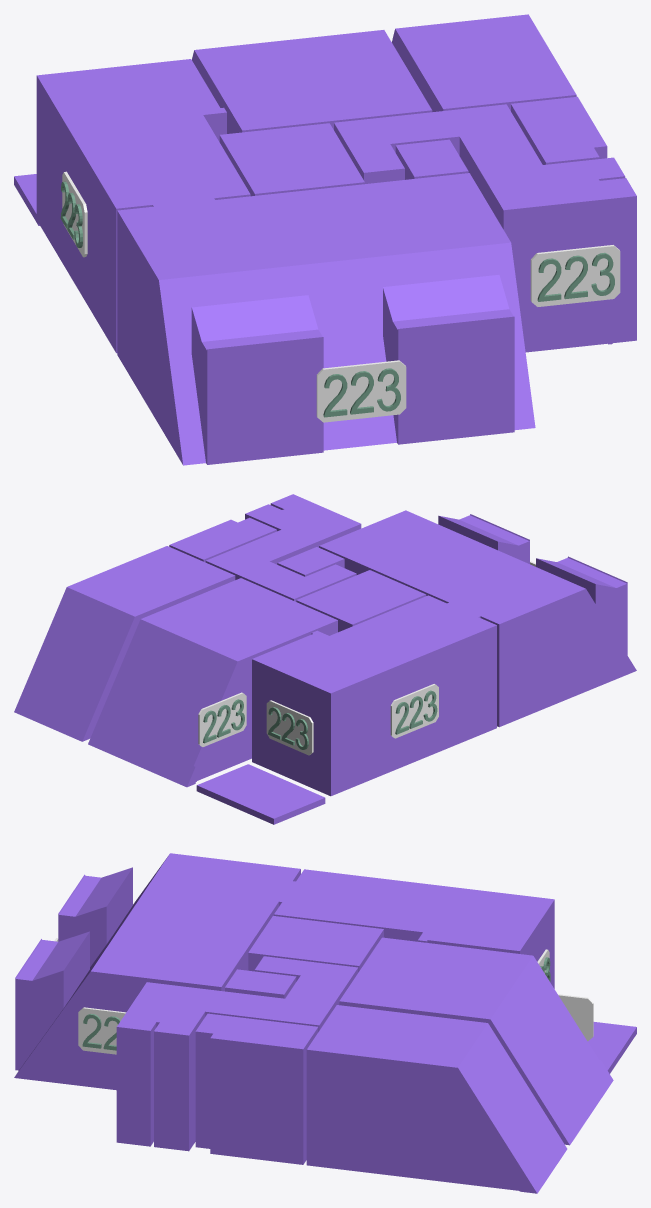
3 views of the same model, one above another, from view 1: azimuth 30°, elevation 25°; view 2: azimuth 150°, elevation 25°; view 3: azimuth 270°, elevation 25° (orthographic). The views are drawn at different scales.
Parts seen in each view (by area): view 1: g_0, g_1, g_5, g_2, g_3, g_4, g_7, g_16, g_20, g_6, g_12, g_8; view 2: g_1, g_0, g_2, g_3, g_5, g_8, g_4, g_7, g_32, g_24, g_12, g_6; view 3: g_3, g_0, g_2, g_5, g_7, g_1, g_4, g_6, g_8, g_28, g_32.
Boxes of the visible parts, x1,y1,x2,y2 form: g_0: (117, 173, 535, 465); g_1: (36, 59, 250, 353); g_5: (334, 104, 636, 352); g_2: (192, 30, 432, 133); g_3: (392, 14, 576, 111); g_4: (219, 123, 364, 196); g_7: (511, 96, 607, 164); g_16: (530, 245, 620, 306); g_20: (316, 360, 406, 422); g_6: (395, 139, 468, 179); g_12: (62, 171, 87, 257); g_8: (14, 174, 39, 225); g_1: (252, 595, 496, 796); g_0: (319, 510, 636, 727); g_2: (88, 578, 337, 787); g_3: (14, 546, 235, 741); g_5: (205, 494, 361, 601); g_8: (196, 764, 325, 824); g_4: (296, 570, 426, 632); g_7: (169, 517, 276, 562); g_32: (198, 692, 246, 746); g_24: (266, 700, 313, 755); g_12: (390, 684, 438, 738); g_6: (277, 547, 344, 576); g_3: (306, 1005, 567, 1193); g_0: (14, 853, 300, 1090); g_2: (339, 937, 613, 1145); g_5: (116, 956, 358, 1151); g_7: (195, 1013, 318, 1164); g_1: (274, 869, 554, 988); g_4: (248, 916, 383, 972); g_6: (225, 969, 296, 998); g_8: (587, 1022, 636, 1073); g_28: (78, 1007, 126, 1054); g_32: (558, 994, 593, 1041).
Size of the model in its own units: 11.01 by 2.71 by 12.42.
